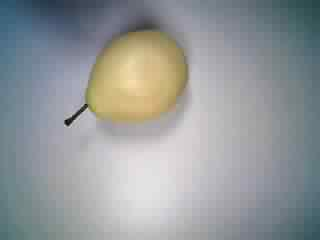pear: (59, 18, 196, 143)
